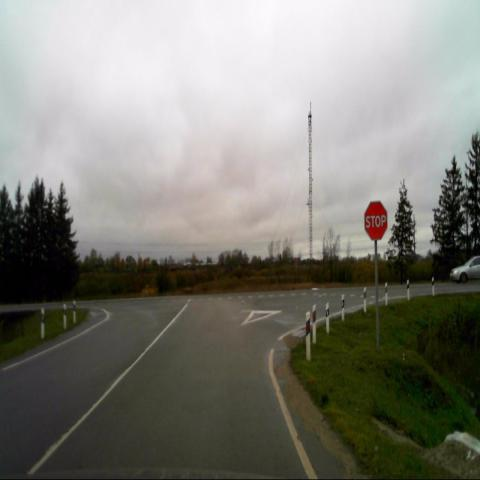2_5: (364, 199, 388, 242)
